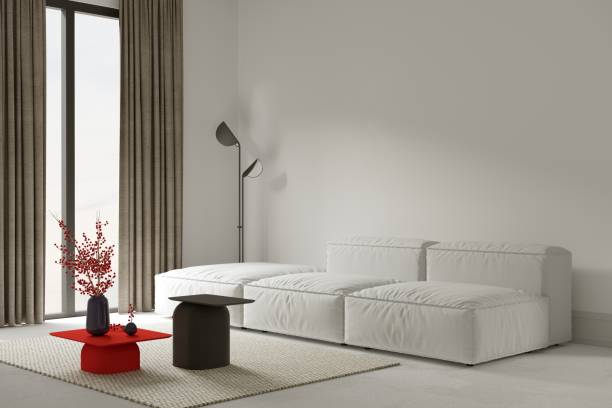floor lamp: (212, 116, 264, 262)
flower vase: (52, 214, 120, 336), (124, 298, 137, 340)
sofa: (150, 231, 575, 368)
table: (167, 289, 256, 371), (44, 323, 172, 376)
